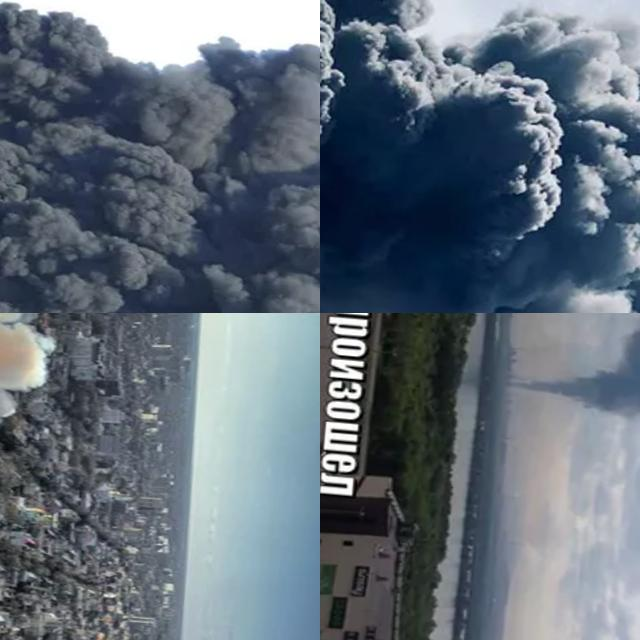smoke: (0, 0, 320, 313), (320, 0, 640, 313), (497, 313, 640, 427), (0, 313, 89, 491)
